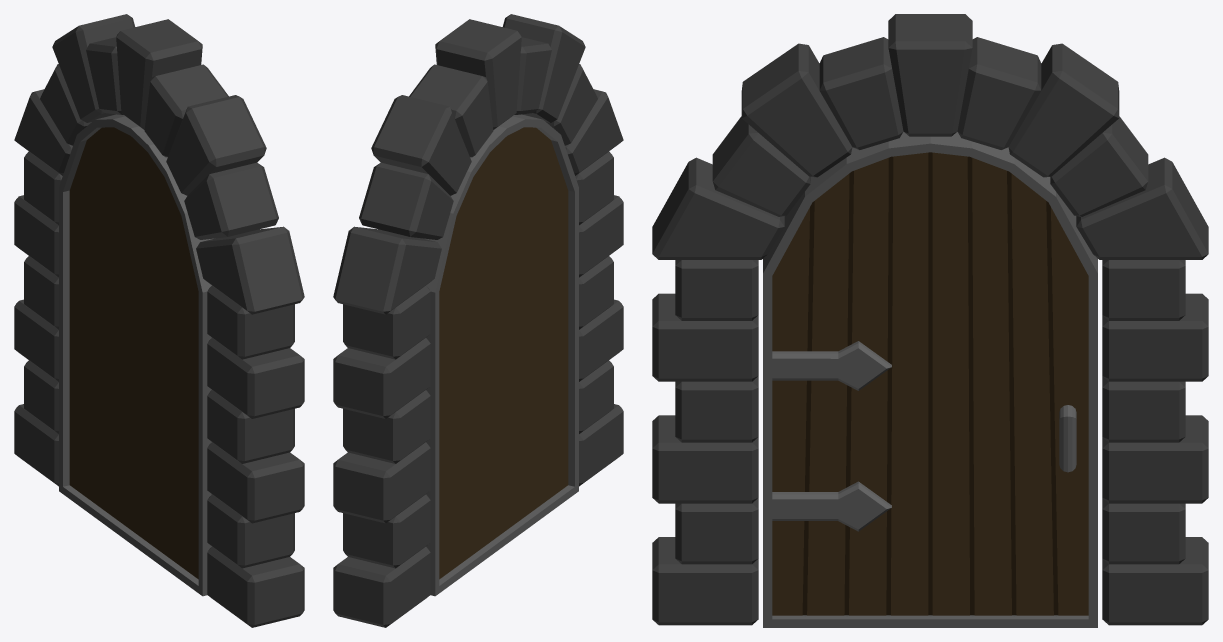
Rendered from Door.fbx.
The picture shows the model from 3 angles, left to right: view 1: azimuth 30°, elevation 25°; view 2: azimuth 150°, elevation 25°; view 3: azimuth 270°, elevation 25°; orthographic projection. The views are drawn at different scales.
Visible parts, largest first — view 1: Cube.001, Cube.007, Cube.014, Cube.002; view 2: Cube.001, Cube.007, Cube.014, Cube.002; view 3: Cube.001, Cube.007, Cube.014, Cube.002.
Part boxes in pixels (x1,y1,x2,y2): Cube.001: (59,114,213,596); Cube.007: (14,151,304,627); Cube.014: (40,14,278,239); Cube.002: (14,89,304,314); Cube.001: (424,114,578,596); Cube.007: (333,151,623,627); Cube.014: (359,14,597,239); Cube.002: (333,89,623,314); Cube.001: (763,132,1097,627); Cube.007: (652,260,1208,625); Cube.014: (712,14,1148,216); Cube.002: (652,157,1208,259).
Size of the model in its own units: 103 by 734 by 634.
